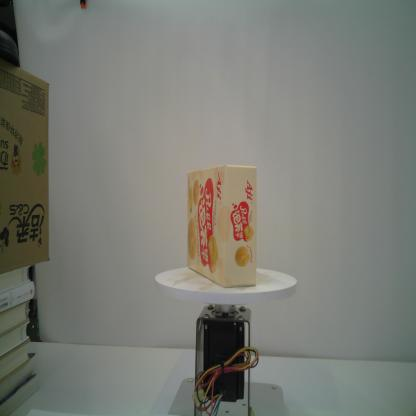Dessert: (187, 164, 257, 288)
